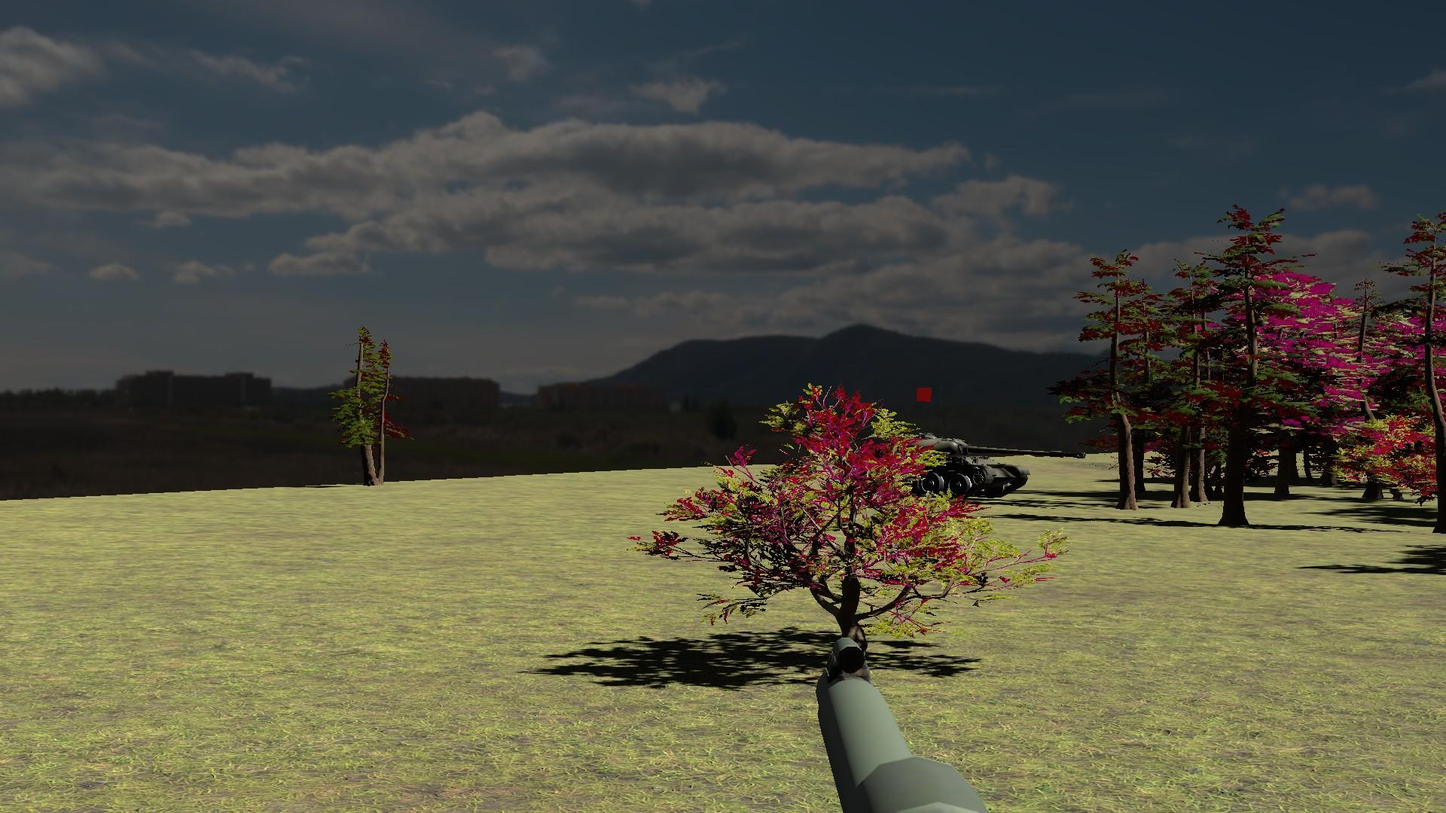Tank: (883, 428, 1085, 507)
